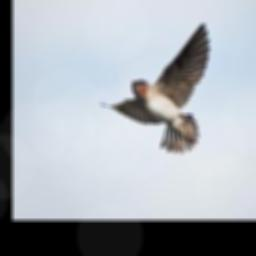Swallow: (99, 20, 212, 156)
